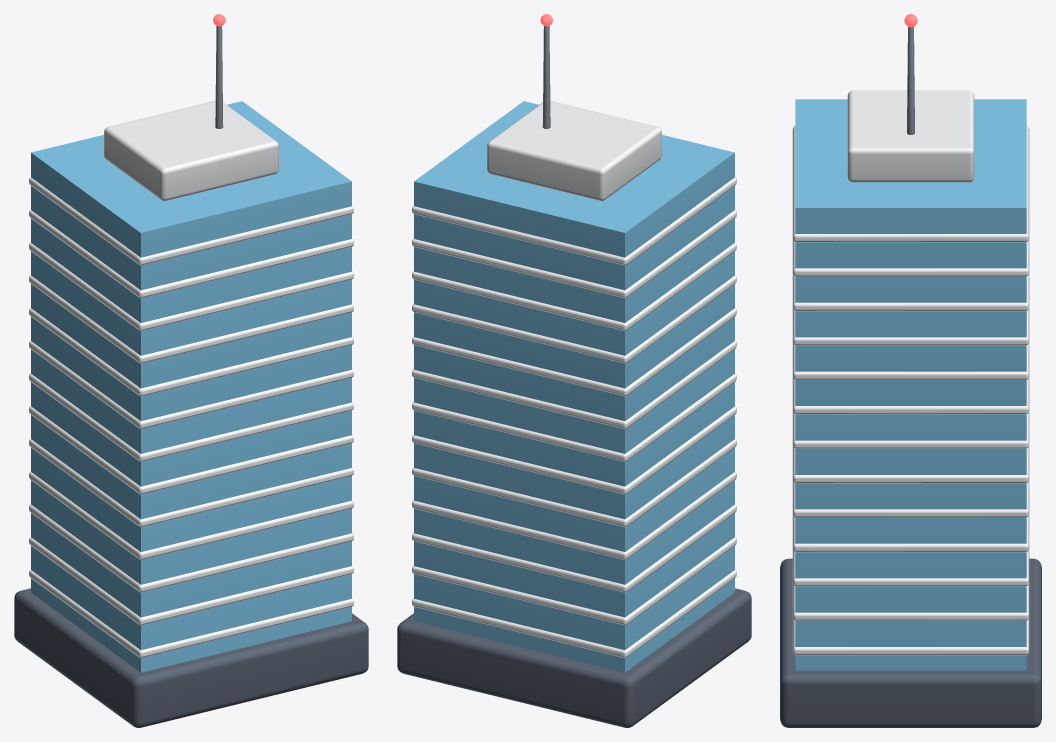
Rendered from office_a.glb.
3 renders of one model, left to right at view 1: azimuth 30°, elevation 25°; view 2: azimuth 150°, elevation 25°; view 3: azimuth 270°, elevation 25°, orthographic. The views are drawn at different scales.
Visible parts, largest first — view 1: office_windows, office_body; view 2: office_windows, office_body; view 3: office_windows, office_body.
Boxes of the visible parts, bbox=[...] form: office_windows: bbox=[31, 101, 351, 672]; office_body: bbox=[14, 26, 368, 727]; office_windows: bbox=[414, 101, 734, 672]; office_body: bbox=[397, 26, 751, 727]; office_windows: bbox=[795, 99, 1026, 670]; office_body: bbox=[780, 26, 1041, 727].
Size of the model in its own units: 6.8 by 17.51 by 6.2.
